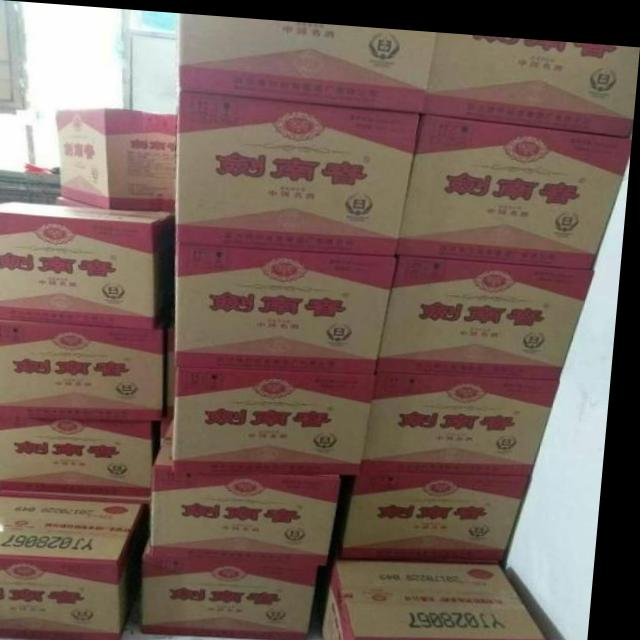box: (180, 90, 422, 251), (402, 109, 634, 259), (180, 241, 401, 368), (160, 415, 348, 561), (383, 247, 599, 371), (179, 10, 438, 108), (0, 495, 158, 640), (0, 201, 178, 326), (424, 26, 640, 127), (182, 364, 380, 470), (329, 553, 561, 640), (371, 366, 566, 468), (153, 535, 328, 635), (0, 318, 171, 419), (345, 469, 539, 555), (0, 416, 169, 494), (56, 106, 179, 209)
